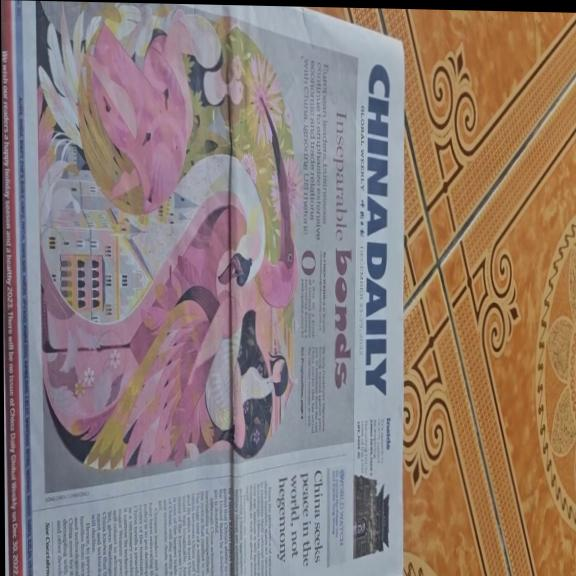Kertas: (20, 35, 405, 576)
